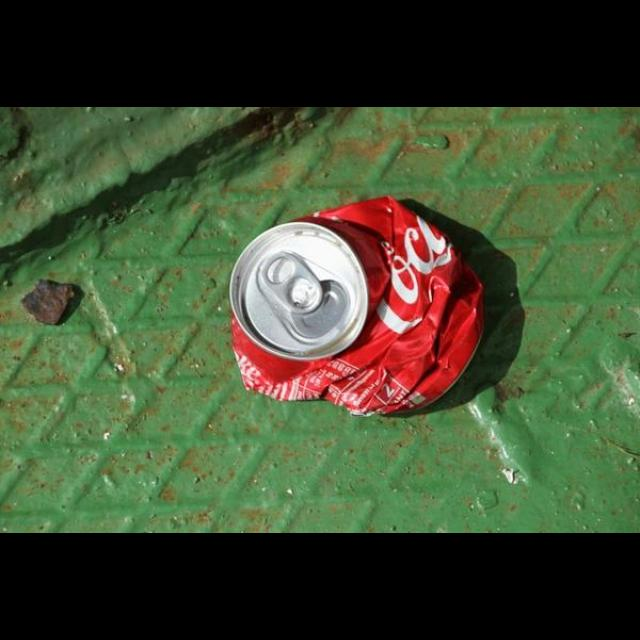aba de lata: (262, 251, 322, 313)
lata: (230, 196, 486, 418)
